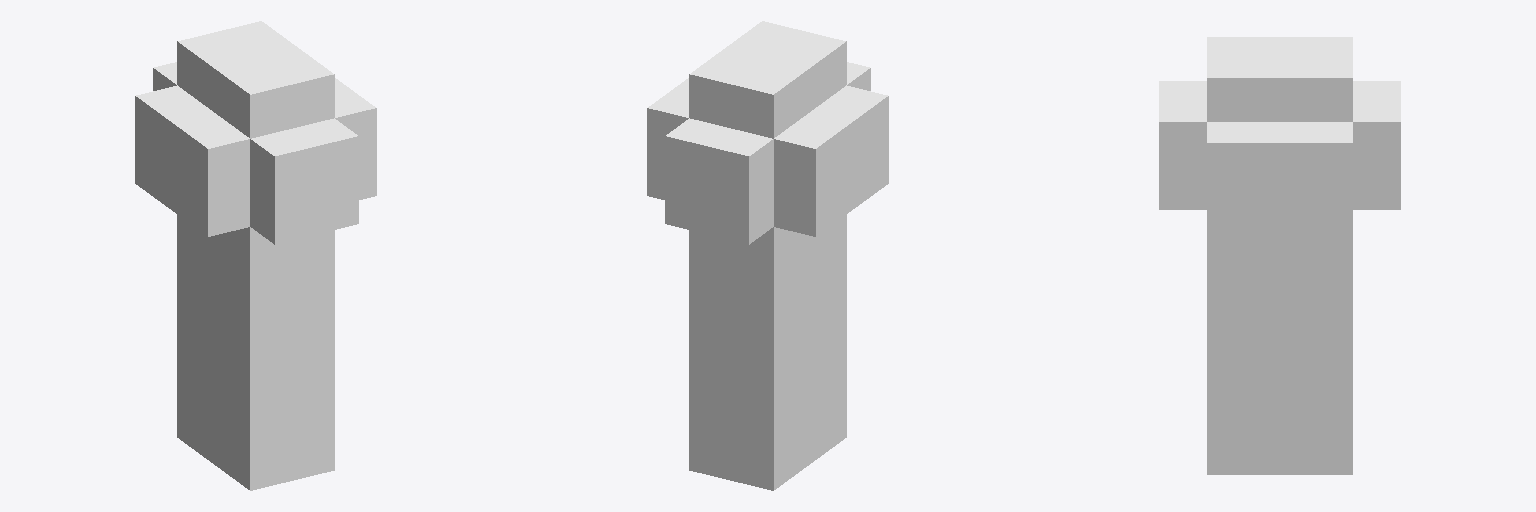
The model's file is female-62.obj.
The picture shows the model from 3 angles: view 1: azimuth 30°, elevation 25°; view 2: azimuth 150°, elevation 25°; view 3: azimuth 270°, elevation 25°; orthographic projection.
Visible parts, largest first — view 1: object 1; view 2: object 1; view 3: object 1.
Part boxes in pixels (x1,y1,x2,y2): object 1: (135, 21, 376, 490); object 1: (647, 21, 888, 490); object 1: (1159, 37, 1400, 474).
Size of the model in its own units: 0.4 by 0.9 by 0.5.